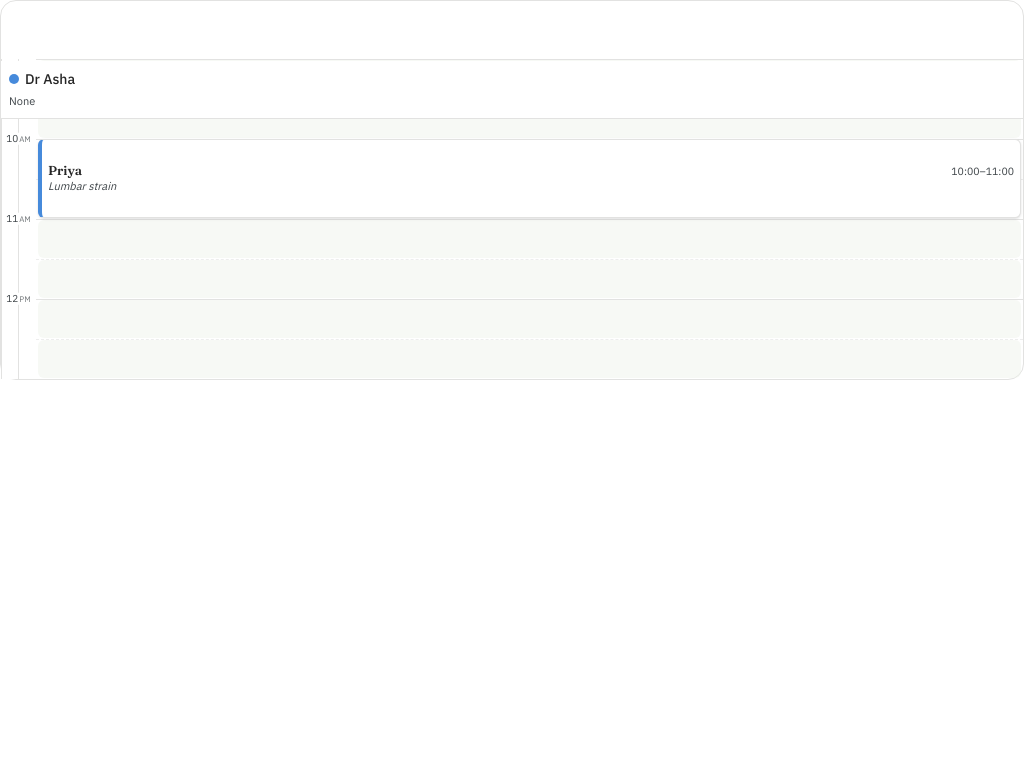
Scenario: MobileThreeDayGrid › page scroll: the "tap a free time to move" bar is pinned above the bottom nav
Press the mouse on the button "Priya 10:00–11:00 Lumbar strain" at (65, 170), box [38,138,1021,218]
Wait 500 ms
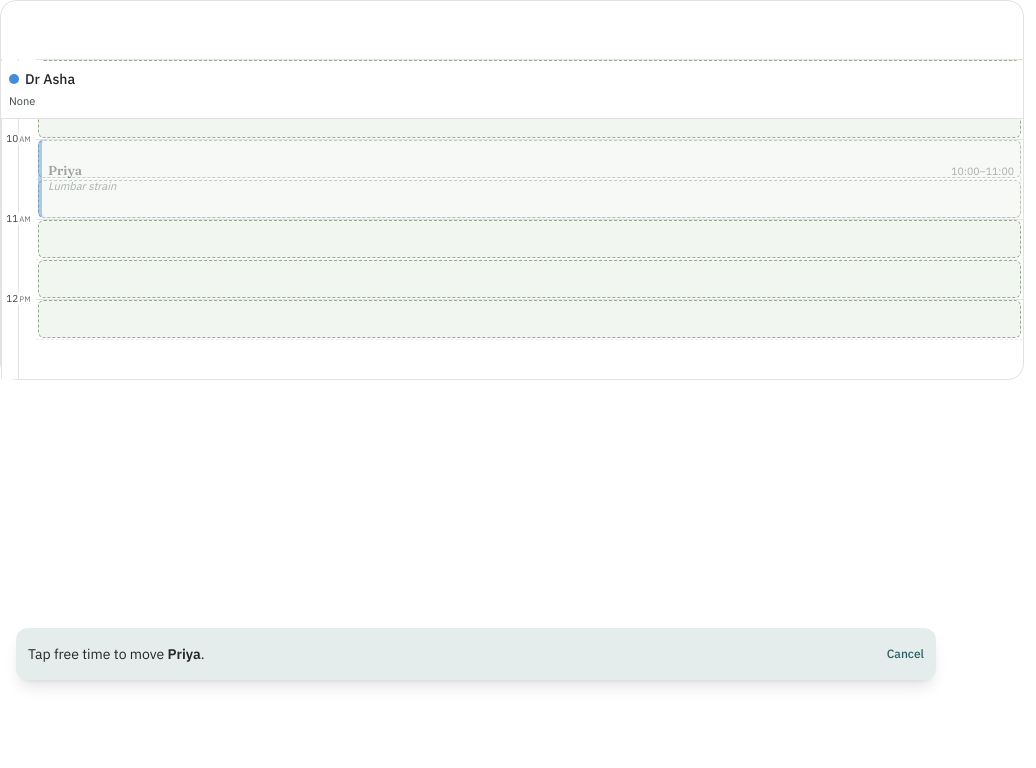
Expected: the message shows "Tap free time to move Priya", [16,628,936,680]
